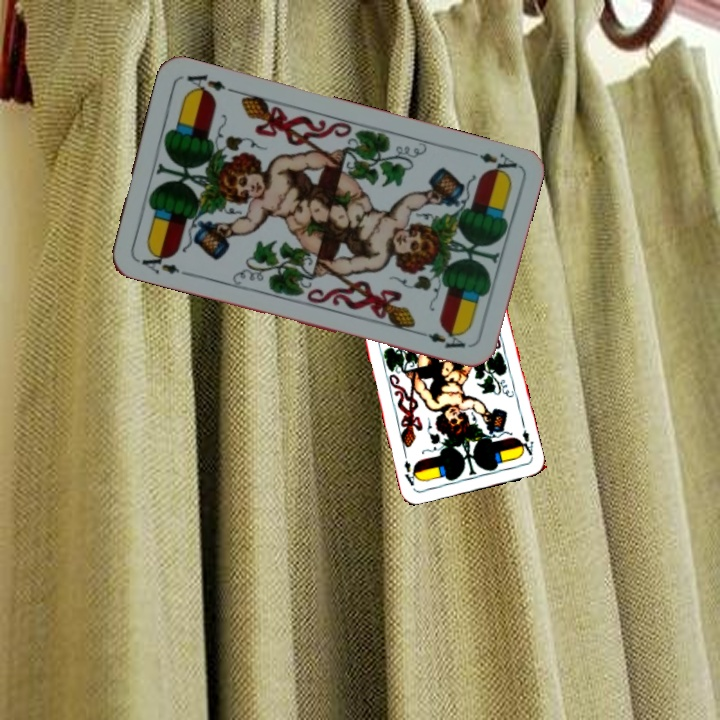EA: (462, 146, 520, 179), (138, 246, 191, 278), (515, 425, 536, 460)
